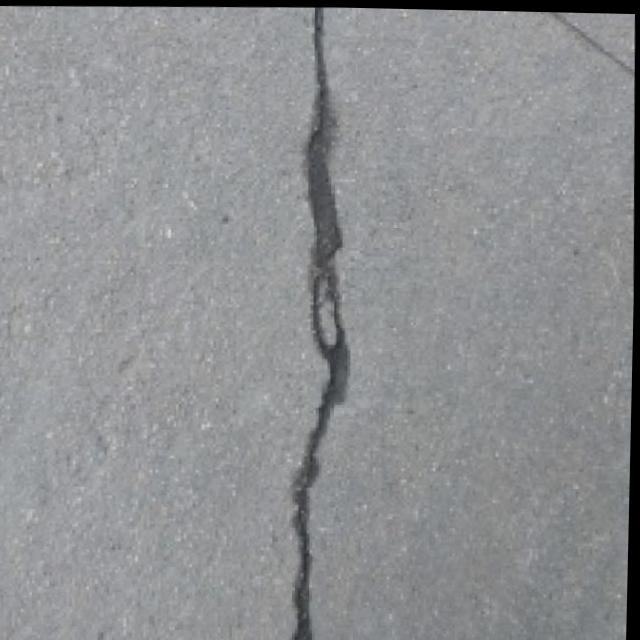Crack: (231, 4, 383, 640)
